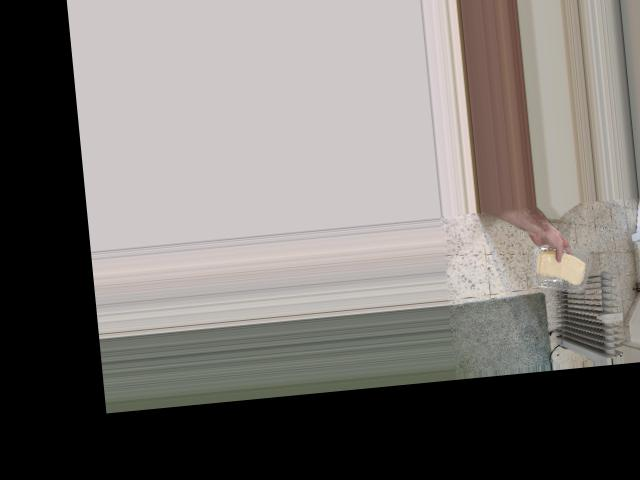cheese: (530, 243, 592, 290)
